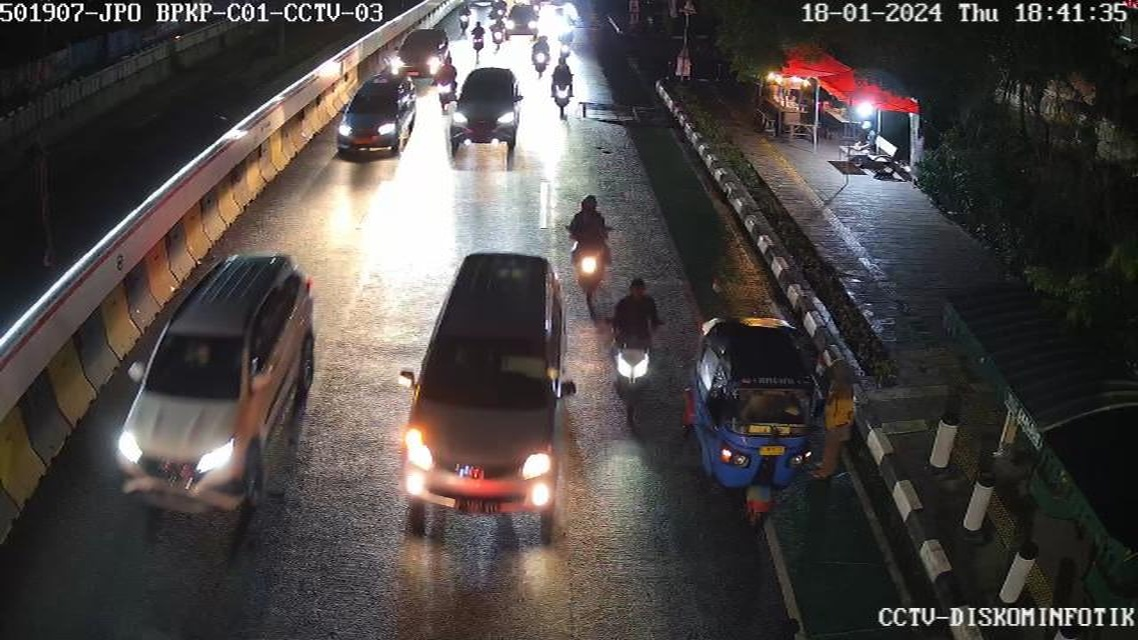Gerobak: (768, 71, 811, 139), (832, 84, 893, 110)
